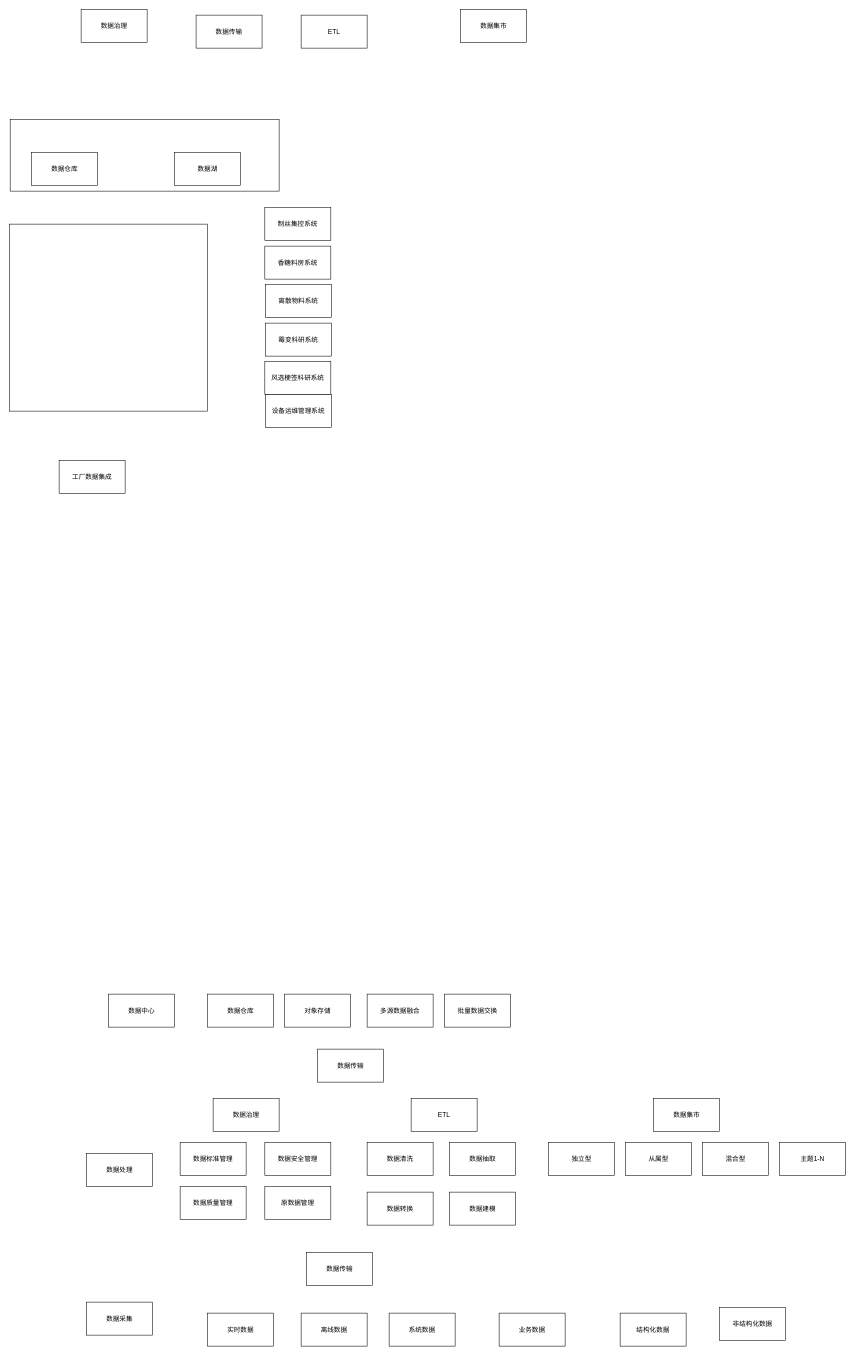
The diagram is 855 pixels wide and 1356 high, and some of its shapes have lost their labels. The shapes that lost their labels are listed below. From the top down, each one's box as (x1, y1, x2, y2) in pixels, then its label:
(10, 119, 279, 191): 大数据中心
(9, 224, 208, 411): 孪生平台
